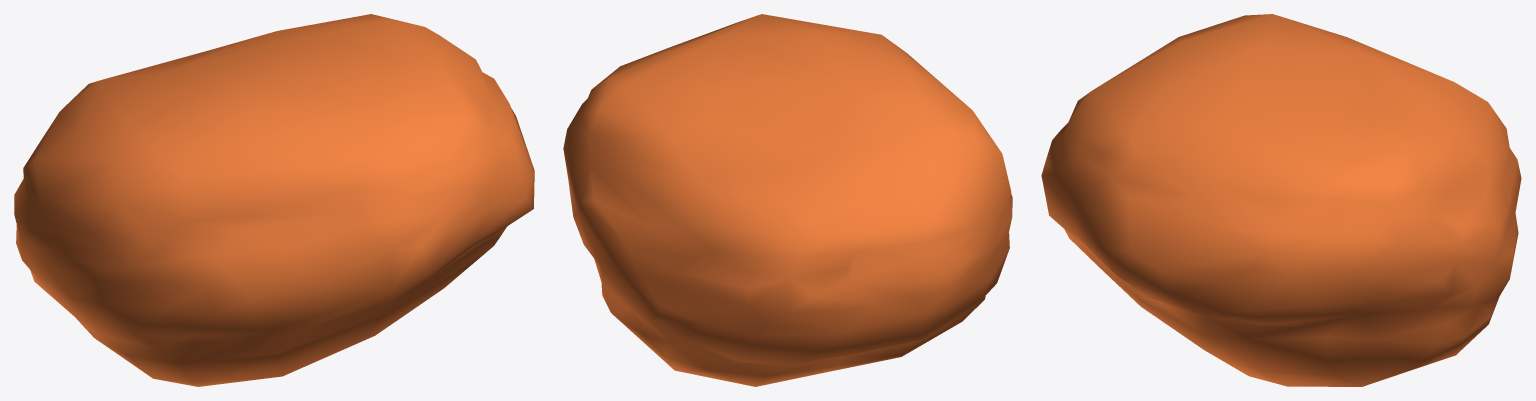
Rendered from Rock9.fbx.
The picture shows the model from 3 angles, left to right: view 1: azimuth 30°, elevation 25°; view 2: azimuth 150°, elevation 25°; view 3: azimuth 270°, elevation 25°; orthographic projection. The views are drawn at different scales.
Parts seen in each view (by area): view 1: pasted__Cube.000; view 2: pasted__Cube.000; view 3: pasted__Cube.000.
Part boxes in pixels (x1,y1,x2,y2): pasted__Cube.000: (14,14,534,386); pasted__Cube.000: (563,14,1012,386); pasted__Cube.000: (1041,14,1521,386).
Size of the model in its own units: 94.29 by 59.4 by 89.12.
